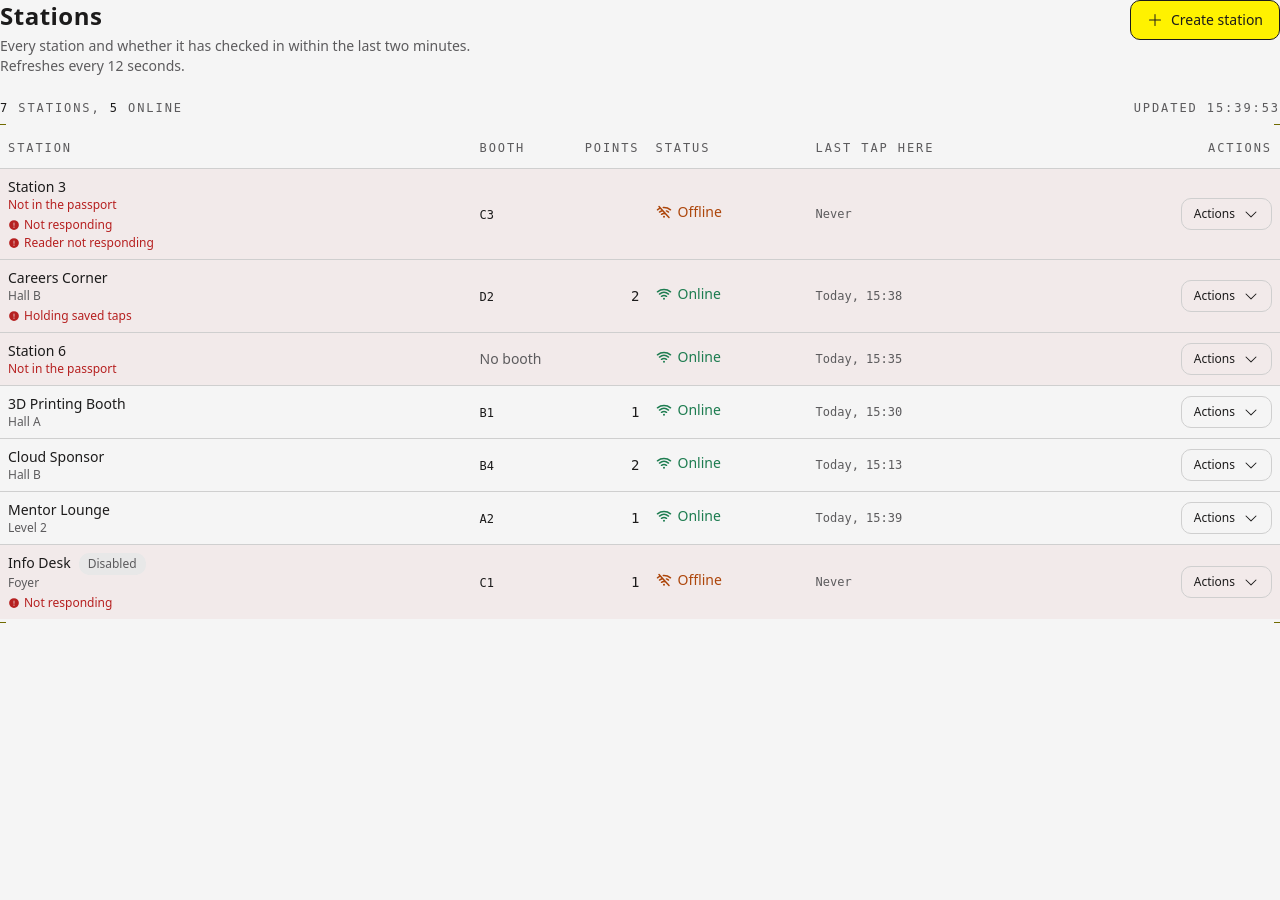
the booth on the station board (agreement 9.12) › names the example plan's codes in the hint
The width and height of the screenshot is (1280, 900).
Click the button "Actions" in the row of "3D Printing Booth".
click(1226, 412)  # box [1181,396,1272,428]
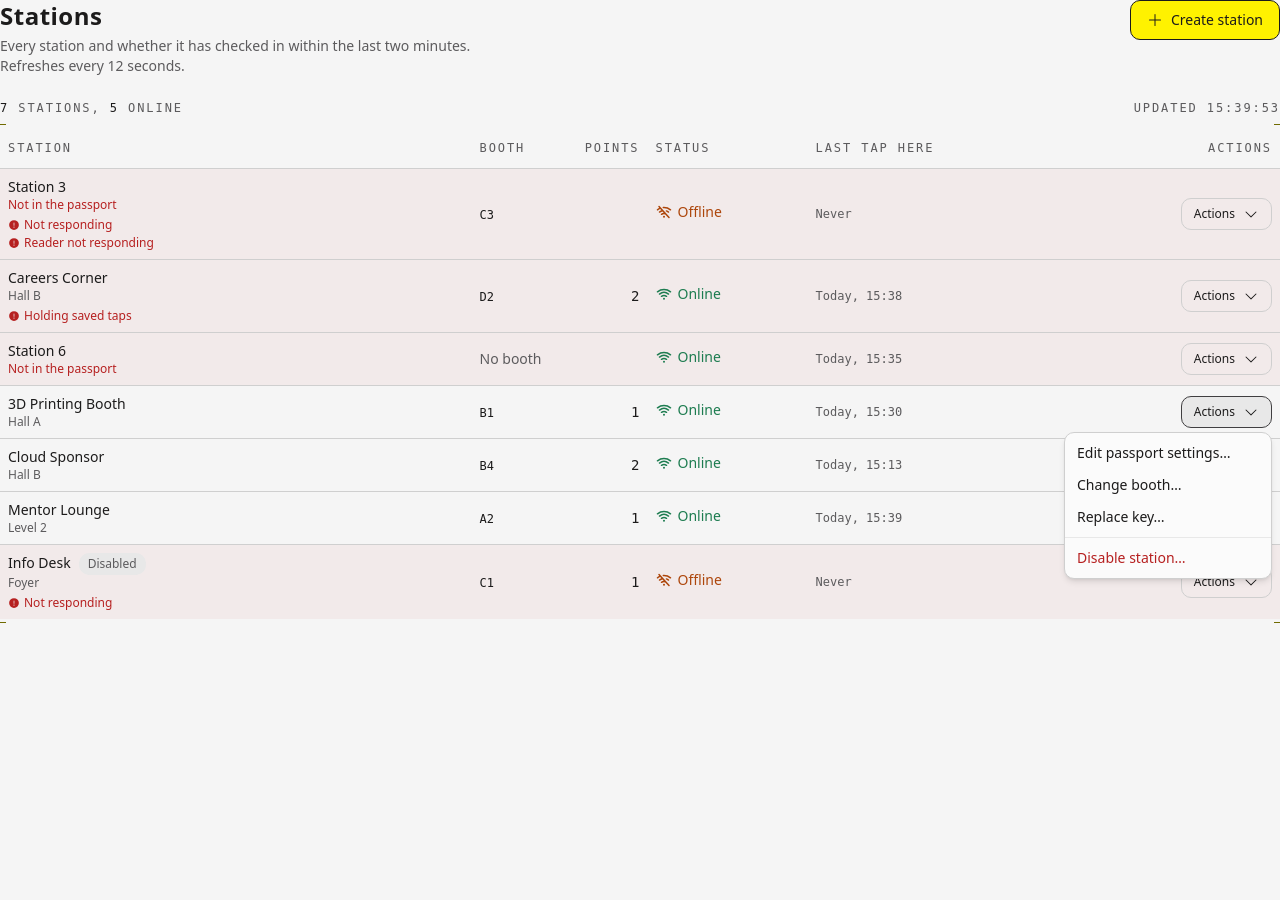
expect the menu is shown: met, box [1064,432,1272,579]
Click the menu item "Change booth…".
click(1129, 484)  # box [1077,475,1182,494]
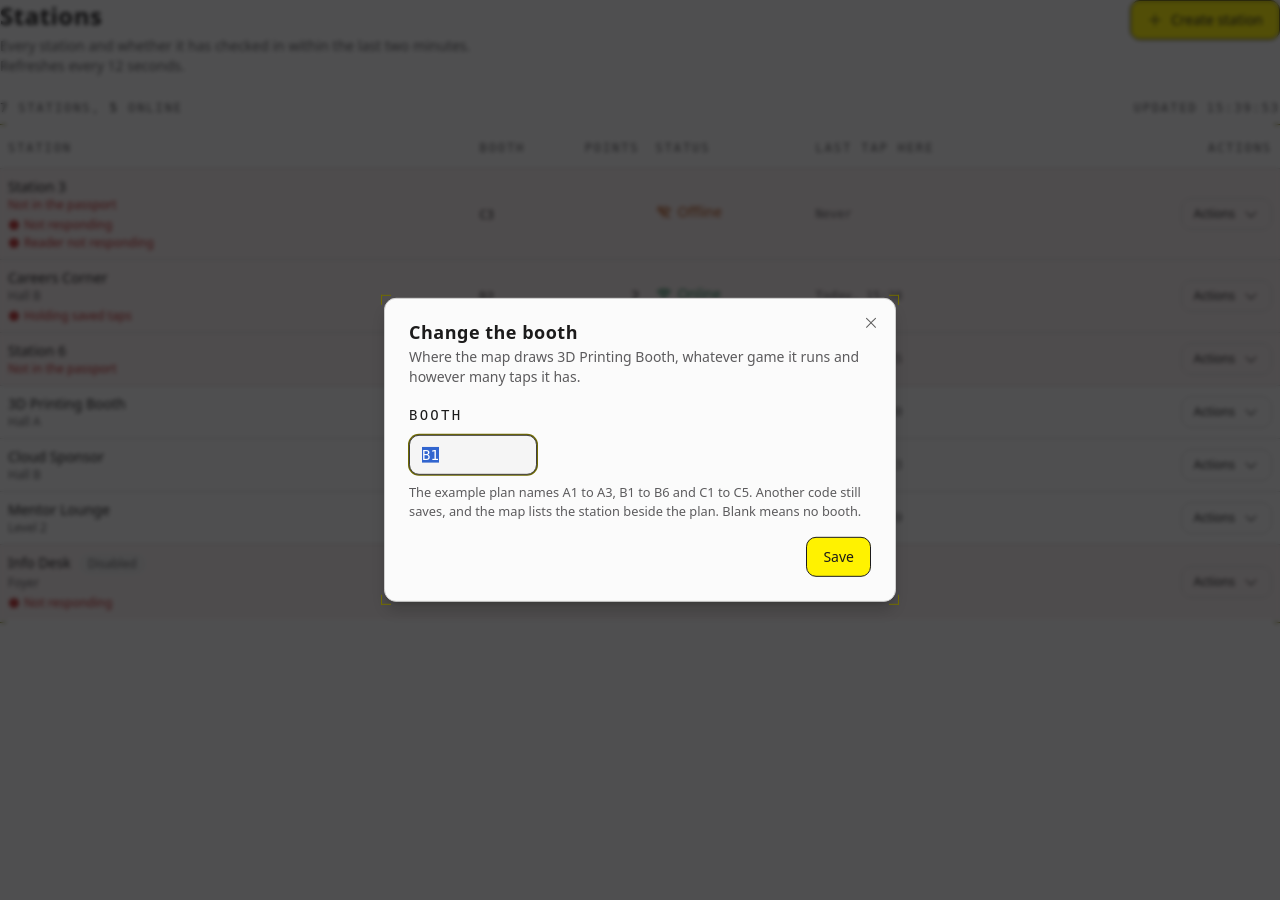
expect the text "The example plan names" shows "A1 to A3": met, box [409,483,861,520]
expect the text "The example plan names" shows "B1 to B6": met, box [409,483,861,520]
expect the text "The example plan names" shows "C1 to C5": met, box [409,483,861,520]
